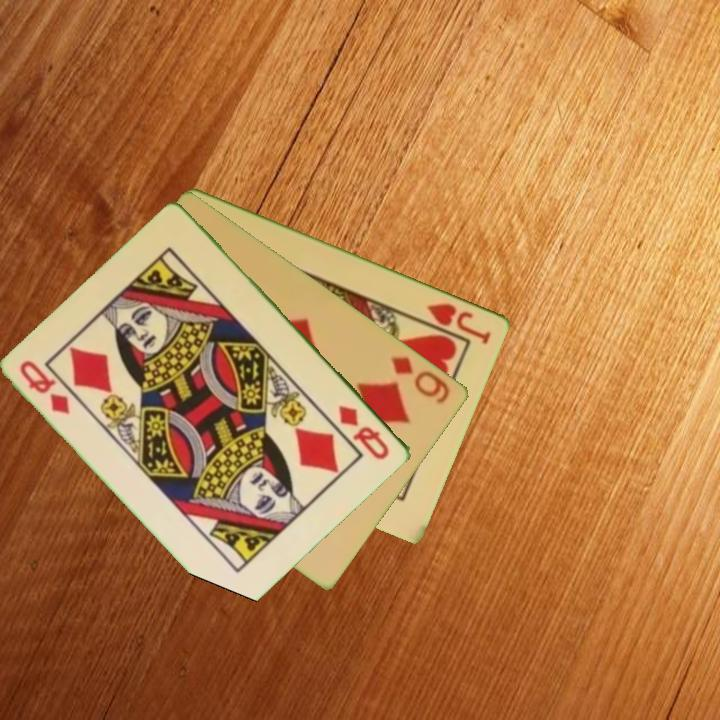6d: (388, 352, 454, 407)
Jh: (424, 299, 494, 347)
Qd: (335, 401, 393, 463), (17, 357, 74, 418)
